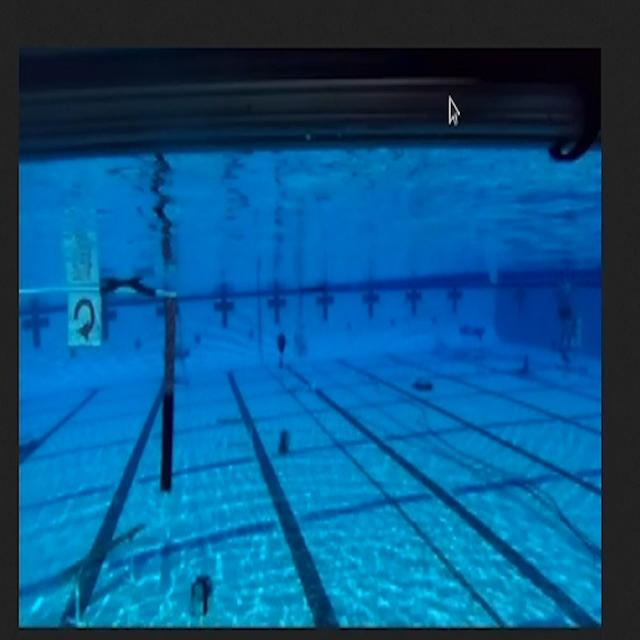Gate: (19, 276, 181, 512)
